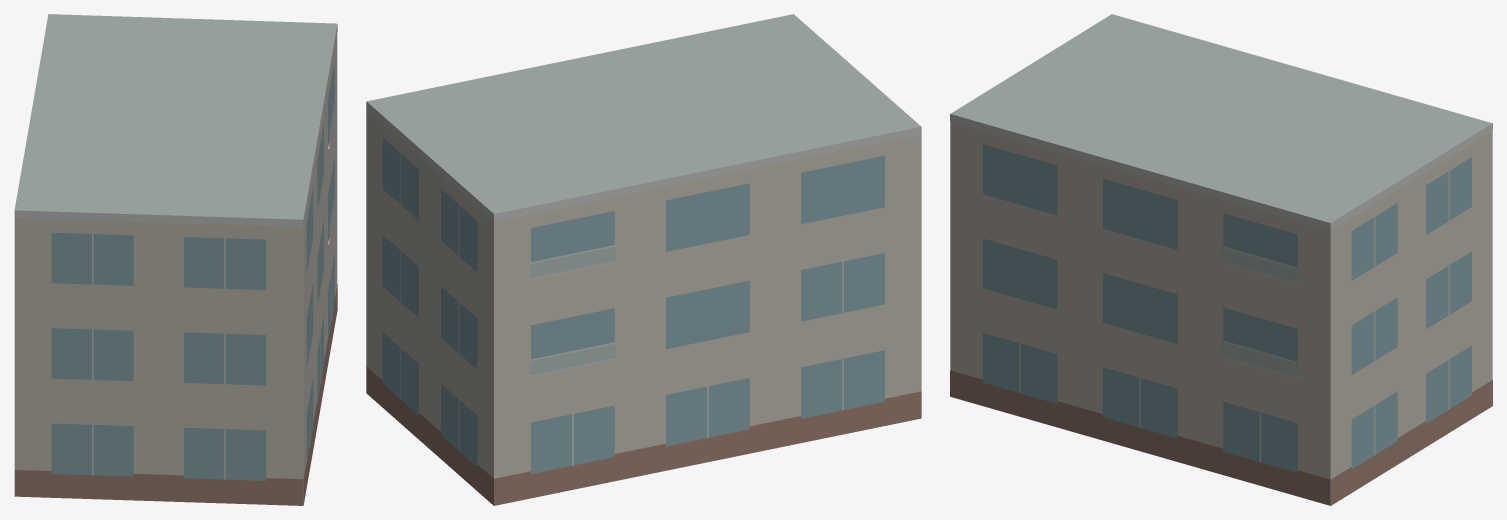
Rendered from survey-upis-32703970.glb.
3 views of the same model, side by side, from view 1: azimuth 30°, elevation 25°; view 2: azimuth 150°, elevation 25°; view 3: azimuth 270°, elevation 25° (orthographic). The views are drawn at different scales.
Parts seen in each view (by area): view 1: survey-upis-32703970.tmp; view 2: survey-upis-32703970.tmp; view 3: survey-upis-32703970.tmp.
Boxes of the visible parts, x1=… form: survey-upis-32703970.tmp: x1=14, y1=14, x2=337, y2=505; survey-upis-32703970.tmp: x1=366, y1=14, x2=921, y2=505; survey-upis-32703970.tmp: x1=950, y1=14, x2=1492, y2=505.
Bounding box in the file's own units: 14.52 × 9.15 × 15.92.
